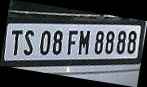character: (22, 29, 34, 55), (11, 29, 22, 55), (39, 29, 50, 55), (66, 29, 77, 55), (52, 29, 63, 54), (78, 29, 89, 54), (94, 30, 103, 54), (105, 30, 114, 54), (116, 30, 125, 54), (127, 30, 136, 53)
